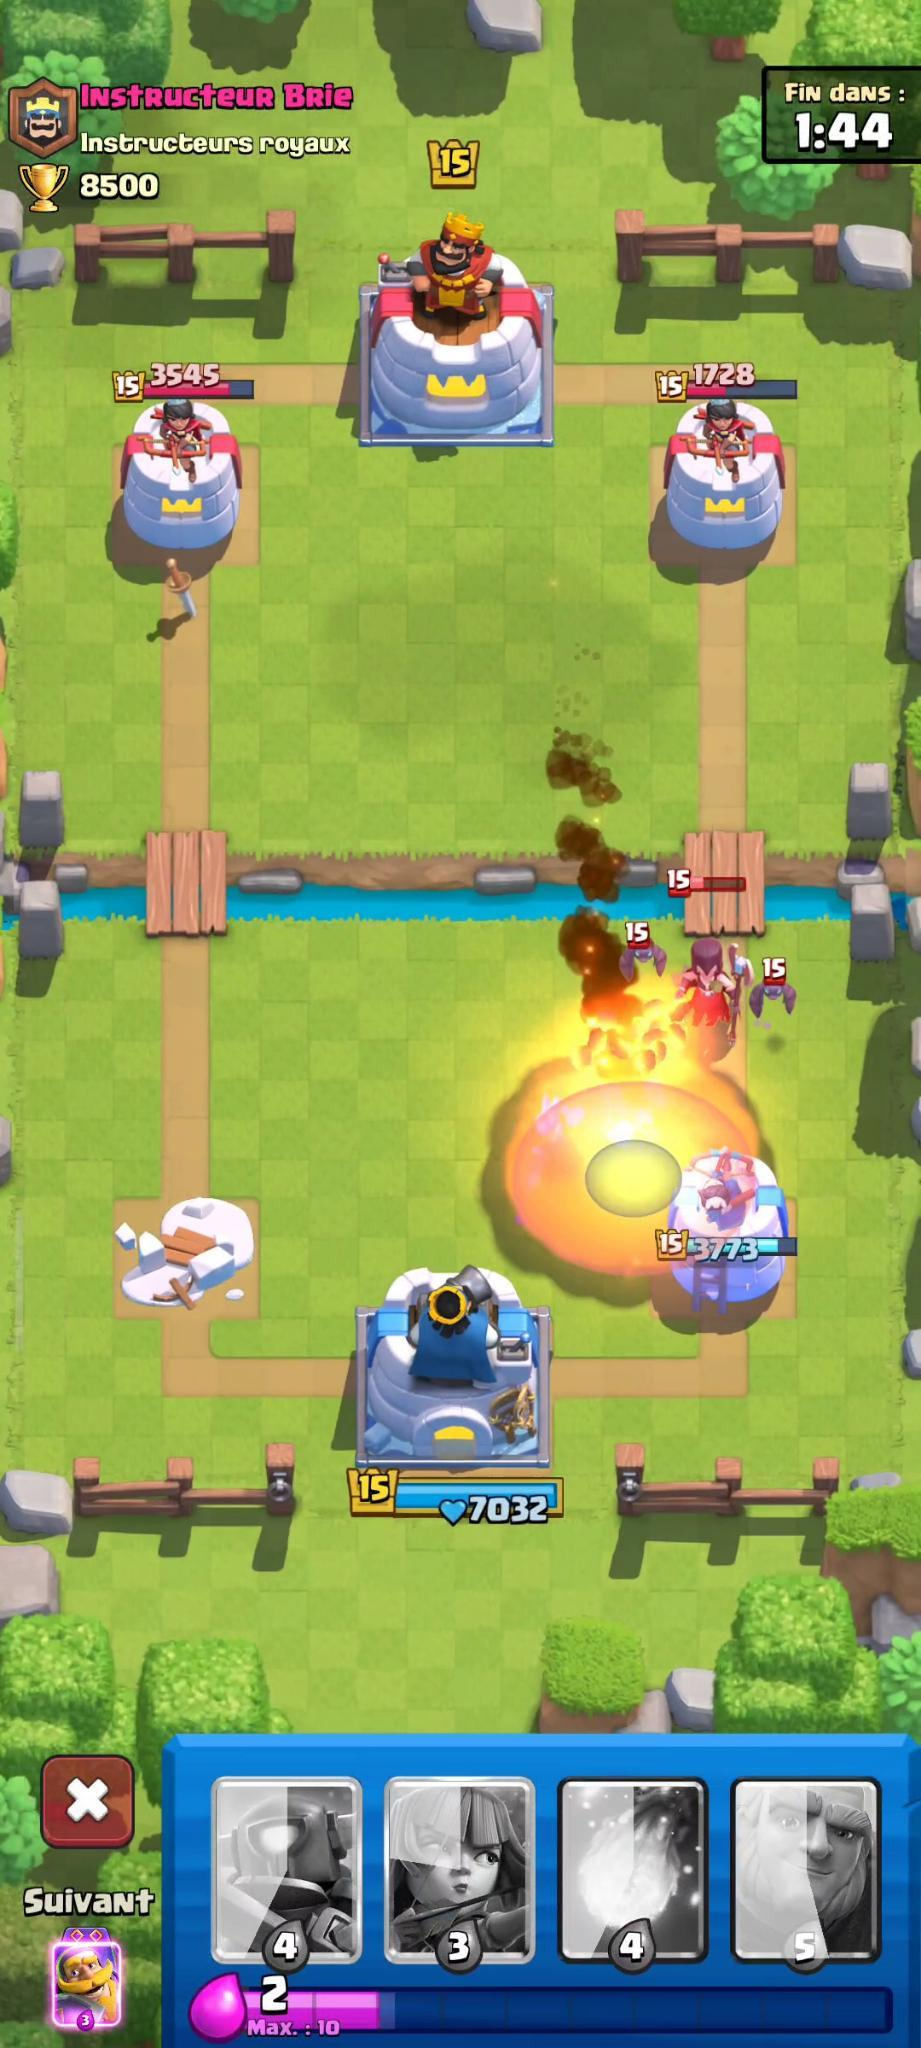enemy_bats: (745, 959, 801, 1024), (615, 923, 668, 989)
enemy_fireball: (482, 733, 758, 1307)
enemy_night_witch: (669, 906, 762, 1044)
